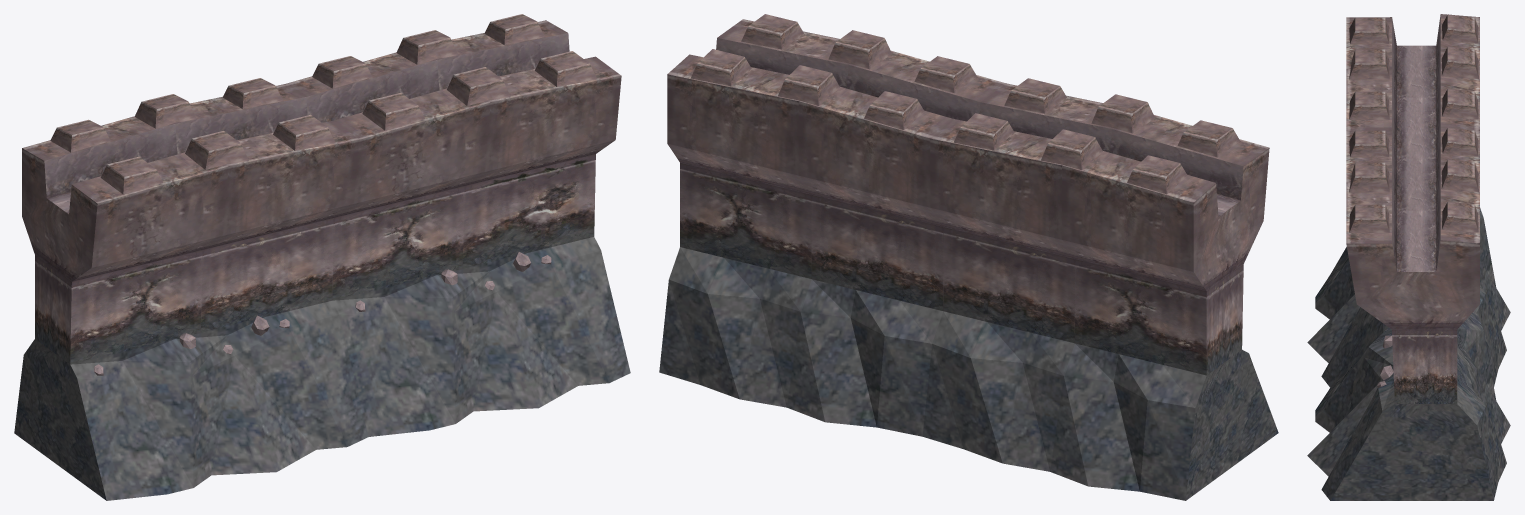
File: C4SMWA20H.obj
3 renders of one model, left to right at view 1: azimuth 30°, elevation 25°; view 2: azimuth 150°, elevation 25°; view 3: azimuth 270°, elevation 25°, orthographic. The views are drawn at different scales.
Parts seen in each view (by area): view 1: Node 0; view 2: Node 0; view 3: Node 0.
Boxes of the visible parts, x1=… form: Node 0: x1=14, y1=14, x2=630, y2=500; Node 0: x1=659, y1=14, x2=1278, y2=500; Node 0: x1=1307, y1=14, x2=1510, y2=500.
Bounding box in the file's own units: 20 × 11.48 × 7.6.
3 materials, 3 textured.
